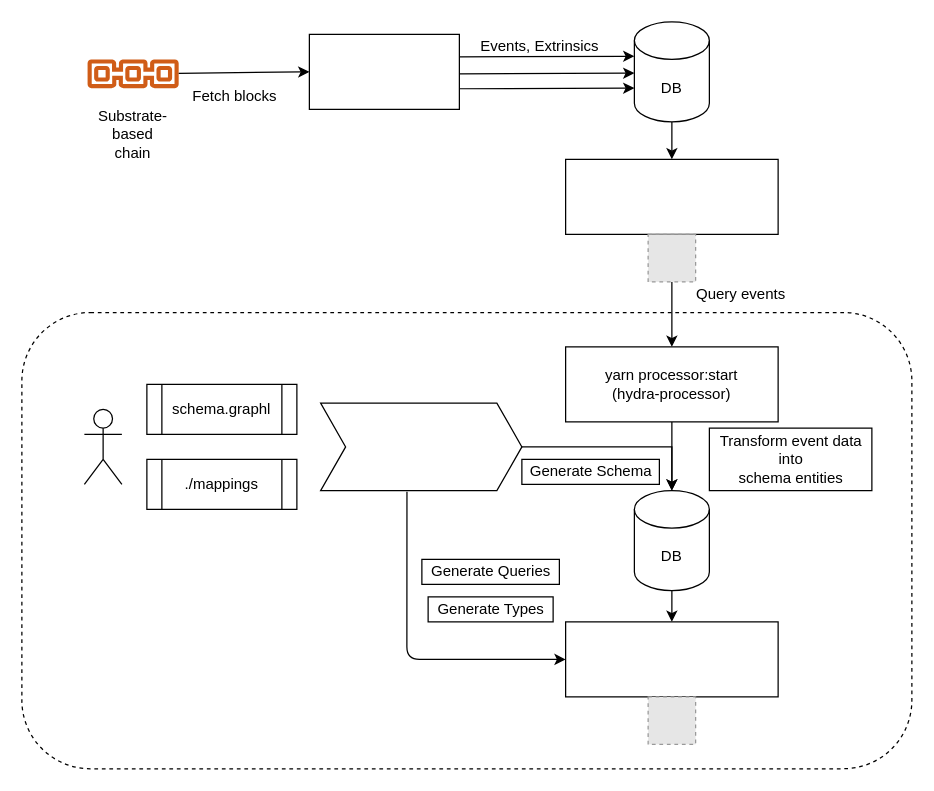
Image size: 934x791. Some labels were removed from this diagram. Grey dashed boxes stand in for pictures. The centre of each missing label's shape, as x and y in pixels:
"Client" belongs at point (102, 446).
"generated/graphql-server" belongs at point (671, 659).
"hydra-cli codegen" belongs at point (420, 446).
"hydra-indexer-gateway" belongs at point (671, 196).
"yarn indexer:start (index-builder)" belongs at point (383, 71).
